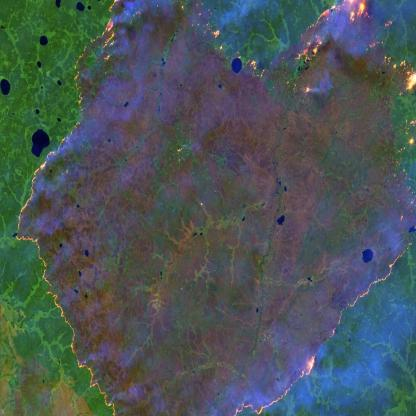fire: (9, 0, 120, 416), (224, 229, 411, 416), (171, 0, 416, 126)
